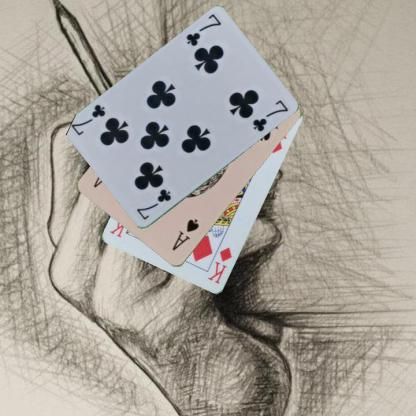7c: (183, 12, 223, 48), (133, 187, 173, 221)
As: (170, 217, 200, 252)
Kd: (205, 244, 234, 286)
